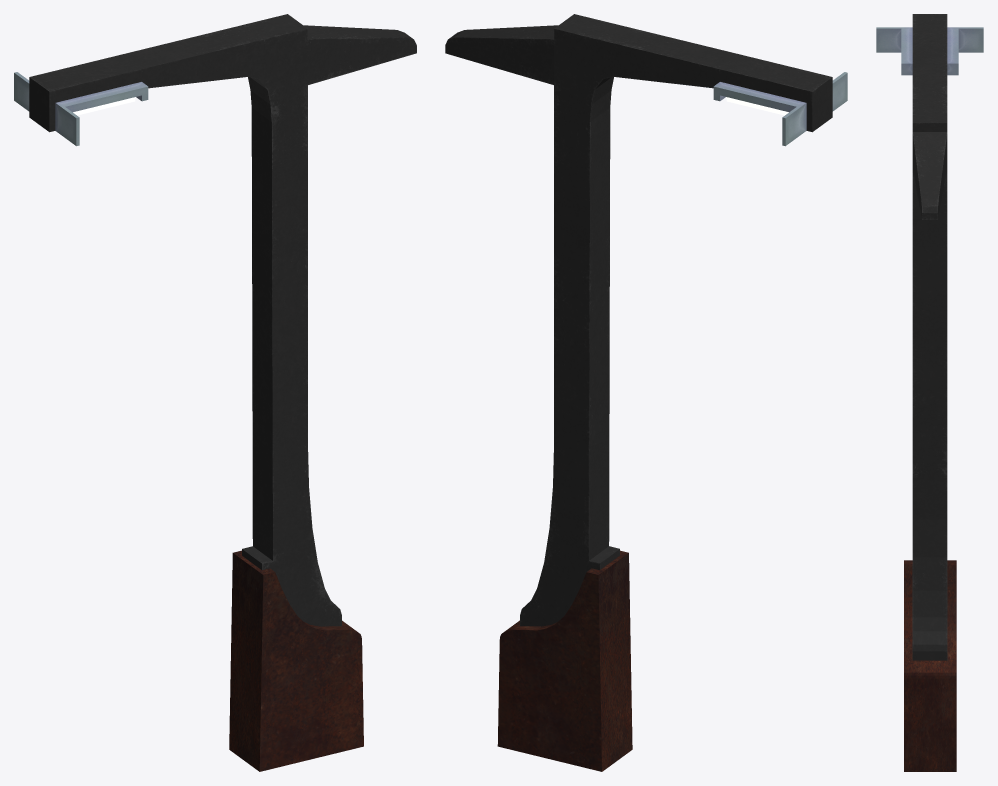
Rendered from StreetLightFinal.fbx.
3 renders of one model, left to right at view 1: azimuth 30°, elevation 25°; view 2: azimuth 150°, elevation 25°; view 3: azimuth 270°, elevation 25°, orthographic. The views are drawn at different scales.
Visible parts, largest first — view 1: Cube.032; view 2: Cube.032; view 3: Cube.032.
Part boxes in pixels (bbox=[...]): Cube.032: bbox=[14, 14, 416, 771]; Cube.032: bbox=[445, 14, 847, 771]; Cube.032: bbox=[876, 14, 983, 771].
Size of the model in its own units: 715 by 1331 by 207.
